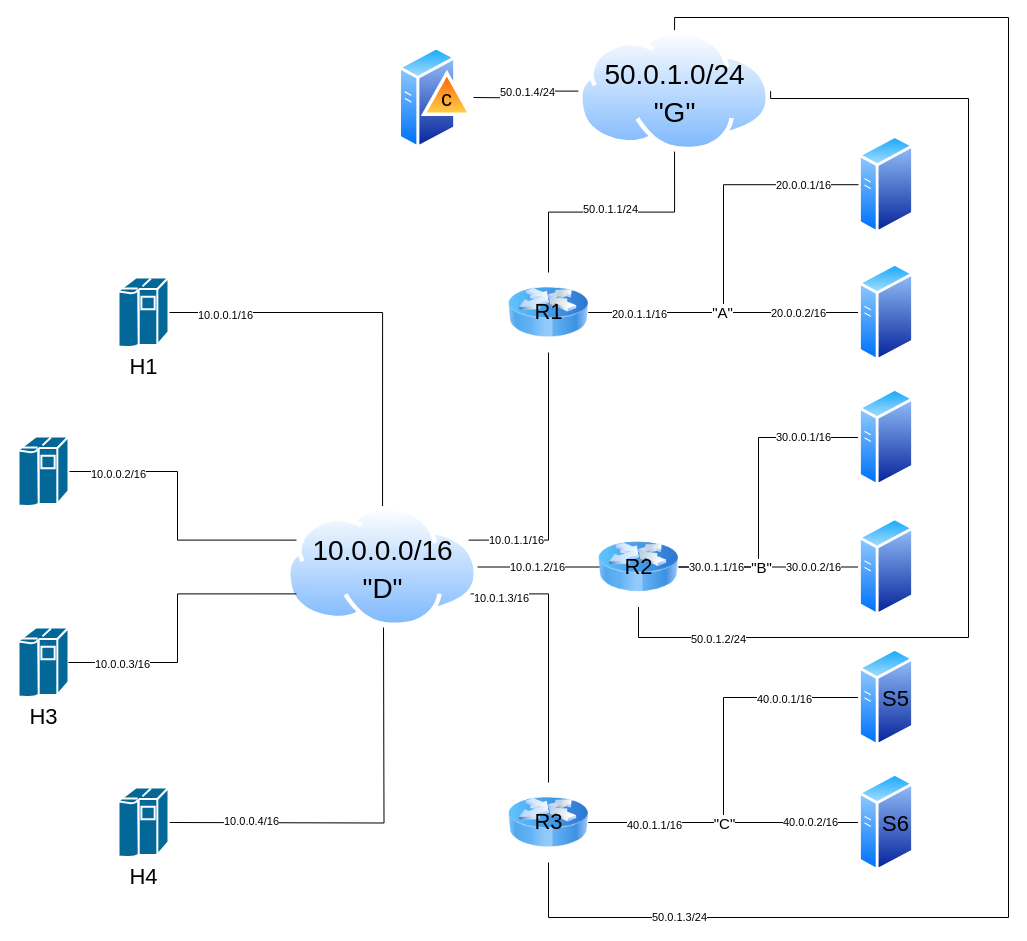
The diagram is 1027 pixels wide and 941 high, and some of its shapes have lost their labels. The centre of each missing label's shape, as x and y in pixels:
H2: (43,471)
S1: (886,184)
S2: (886,312)
S3: (886,437)
S4: (886,566)
